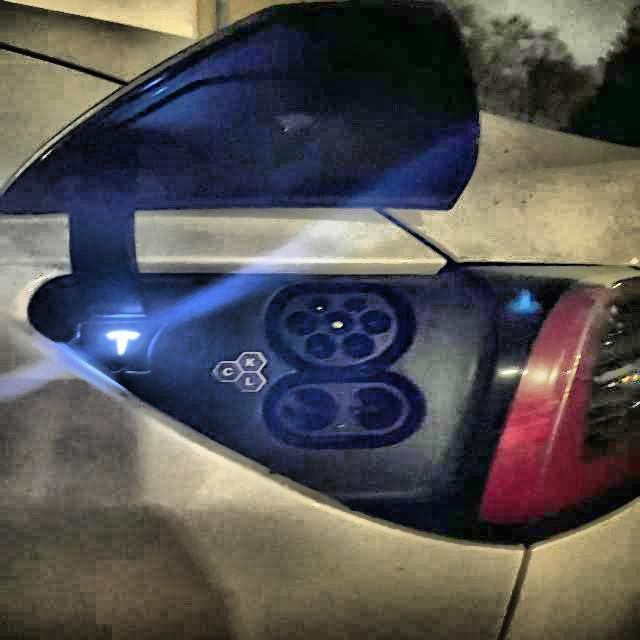inlet: (281, 292, 396, 366)
inlet-above-left: (307, 297, 331, 313)
inlet-above-right: (344, 297, 367, 312)
inlet-below-left: (305, 333, 337, 359)
inlet-below-right: (343, 333, 376, 357)
inlet-center: (323, 311, 354, 334)
inlet-center-left: (284, 311, 318, 336)
inlet-center-right: (359, 310, 391, 334)
